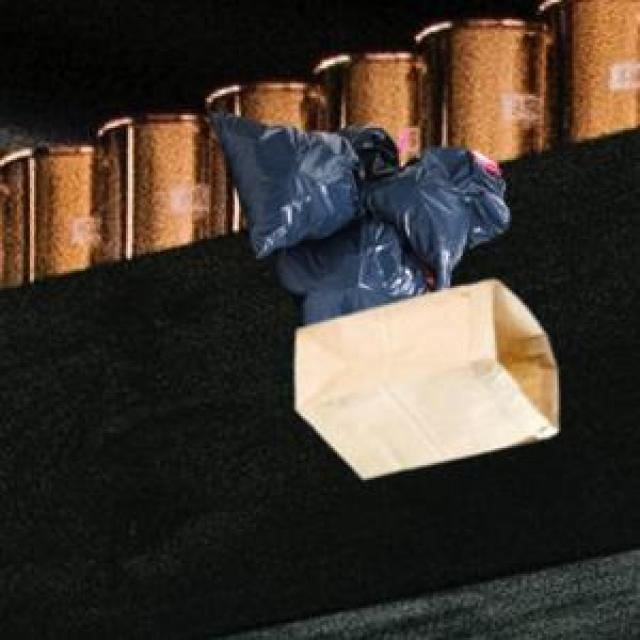miscellaneous trash: (206, 107, 506, 324)
paper: (292, 275, 553, 474)
